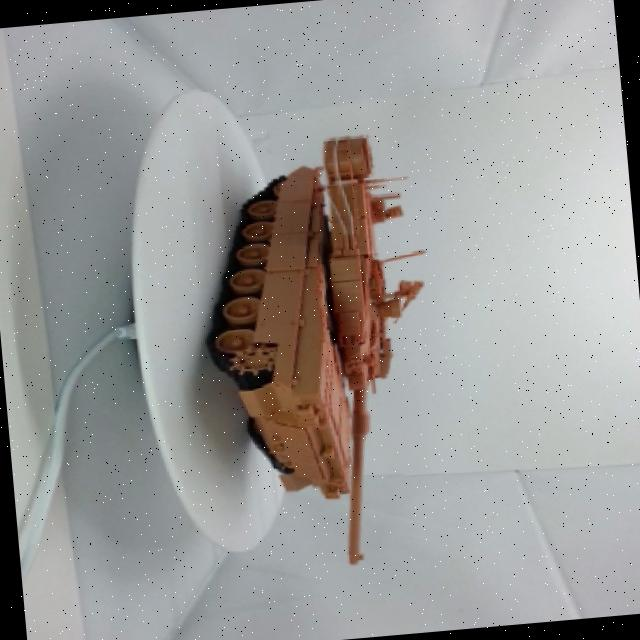korea tank: (185, 122, 474, 580)
